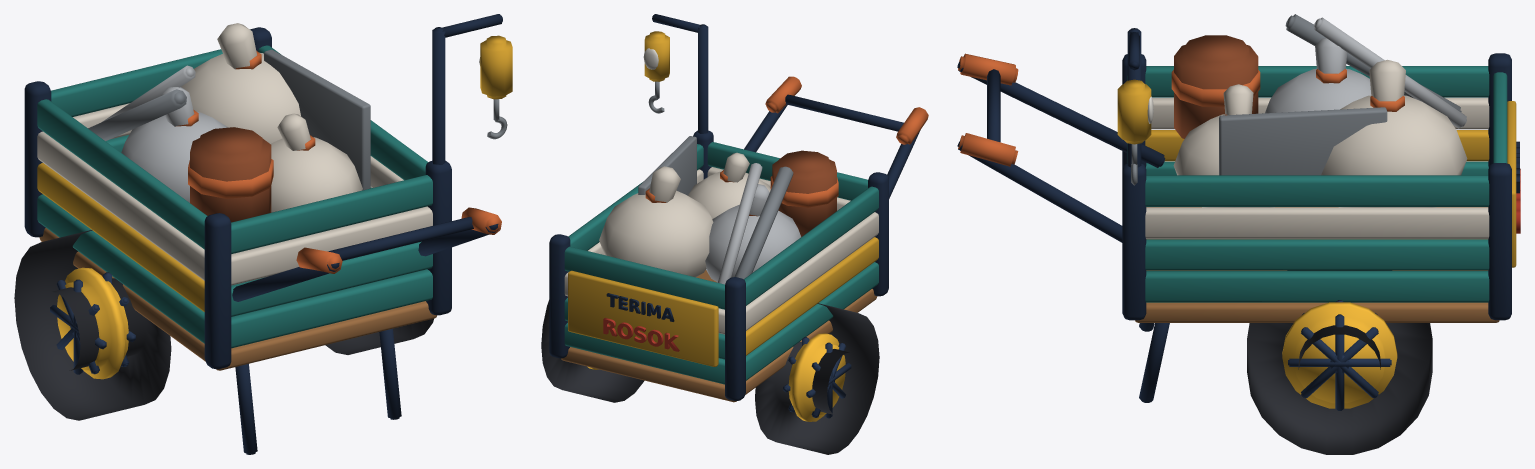
The model's file is GerobakKartun.fbx.
The picture shows the model from 3 angles, left to right: view 1: azimuth 30°, elevation 25°; view 2: azimuth 150°, elevation 25°; view 3: azimuth 270°, elevation 25°; orthographic projection. The views are drawn at different scales.
Parts seen in each view (by area): view 1: Body, Wheel_L, Wheel_R; view 2: Body, Wheel_L, Wheel_R; view 3: Body, Wheel_R.
Boxes of the visible parts, <box> form: Body: <box>24,14,512,454</box>; Wheel_L: <box>14,230,171,420</box>; Wheel_R: <box>325,318,433,354</box>; Body: <box>549,14,928,402</box>; Wheel_L: <box>755,303,879,454</box>; Wheel_R: <box>541,300,644,402</box>; Body: <box>957,14,1520,402</box>; Wheel_R: <box>1247,270,1432,454</box>.
Bounding box in the file's own units: 1.46 × 1.56 × 2.
